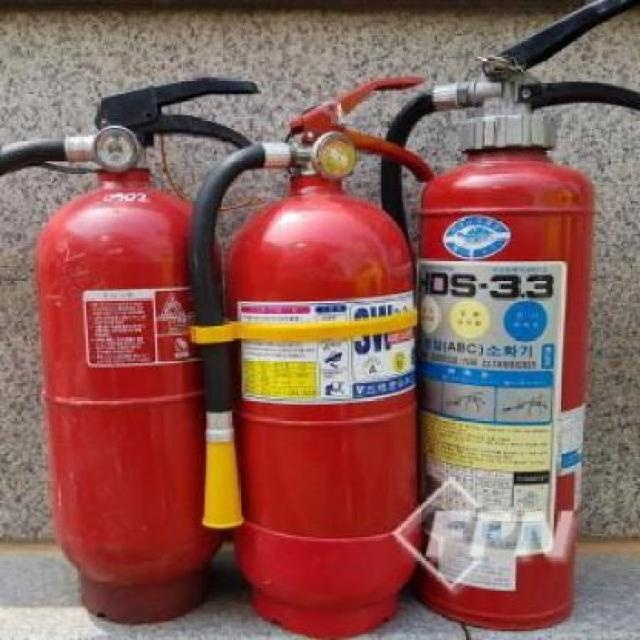fire extinguisher: (378, 0, 640, 629), (0, 76, 260, 624), (188, 75, 435, 640)
